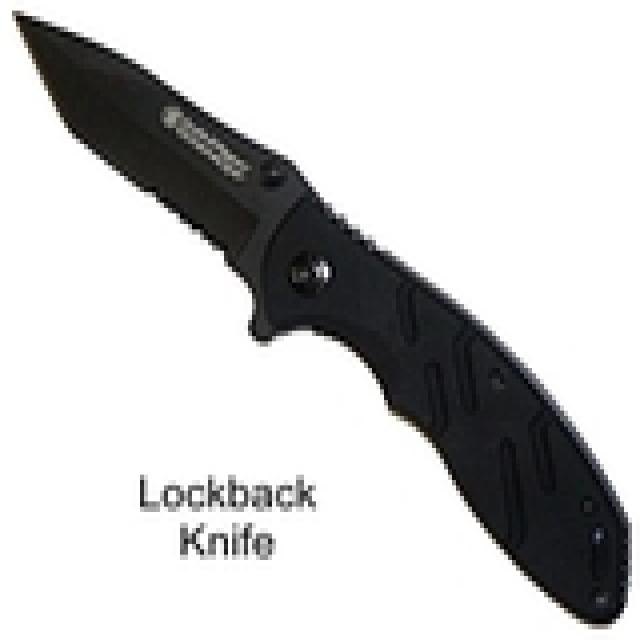Knife: (9, 4, 630, 623)
